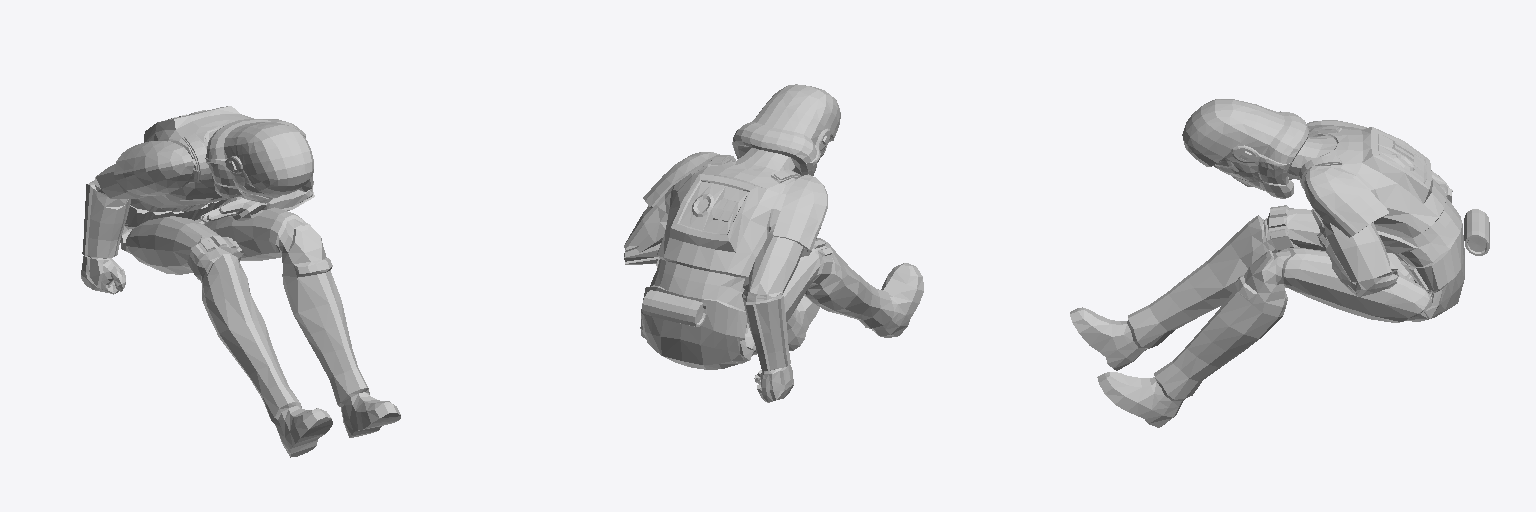
File: Move_000245.obj
3 views of the same model, side by side, from view 1: azimuth 30°, elevation 25°; view 2: azimuth 150°, elevation 25°; view 3: azimuth 270°, elevation 25° (orthographic).
Size of the model in its own units: 1.37 by 2 by 2.57.